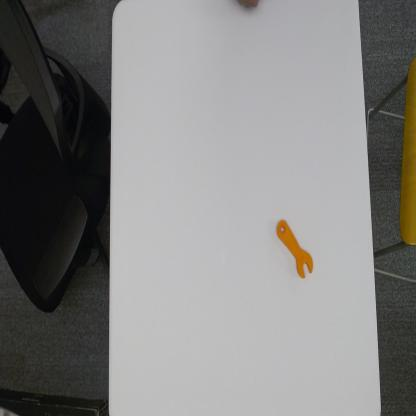Screwdriver: (276, 217, 316, 282)
